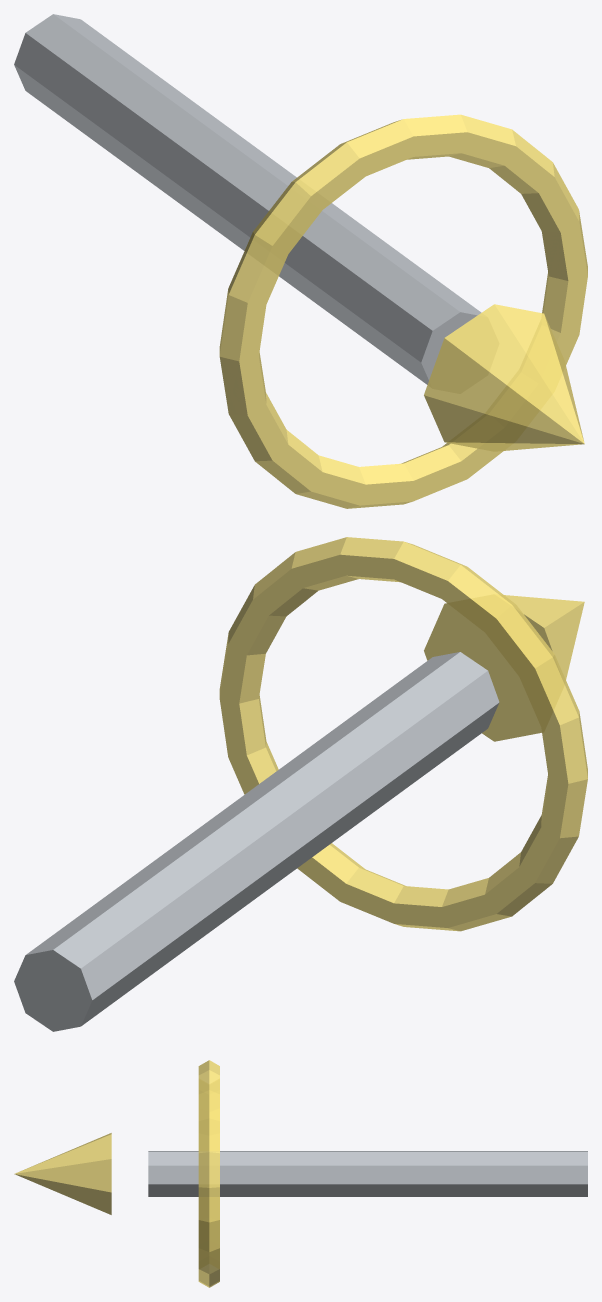
File: quest_tracking_marker.glb
3 views of the same model, one above another, from view 1: azimuth 30°, elevation 25°; view 2: azimuth 150°, elevation 25°; view 3: azimuth 270°, elevation 25° (orthographic). The views are drawn at different scales.
Visible parts, largest first — view 1: pole, ring, arrow; view 2: pole, ring, arrow; view 3: pole, ring, arrow.
Boxes of the visible parts, x1,y1,x2,y2 form: pole: [14, 14, 481, 384]; ring: [219, 114, 587, 508]; arrow: [424, 304, 584, 451]; pole: [14, 652, 499, 1031]; ring: [219, 537, 587, 931]; arrow: [424, 595, 584, 741]; pole: [148, 1151, 587, 1196]; ring: [198, 1060, 219, 1287]; arrow: [14, 1133, 111, 1214].
Size of the model in its own units: 0.94 by 0.94 by 2.35.
